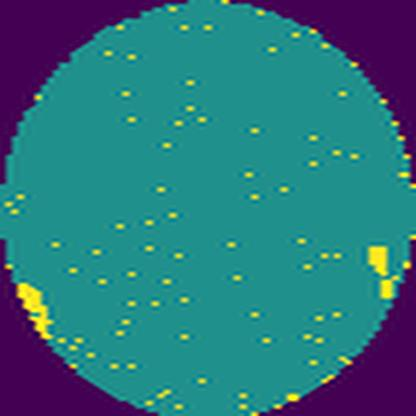Edge-Loc: (16, 275, 58, 343), (364, 239, 402, 313)
